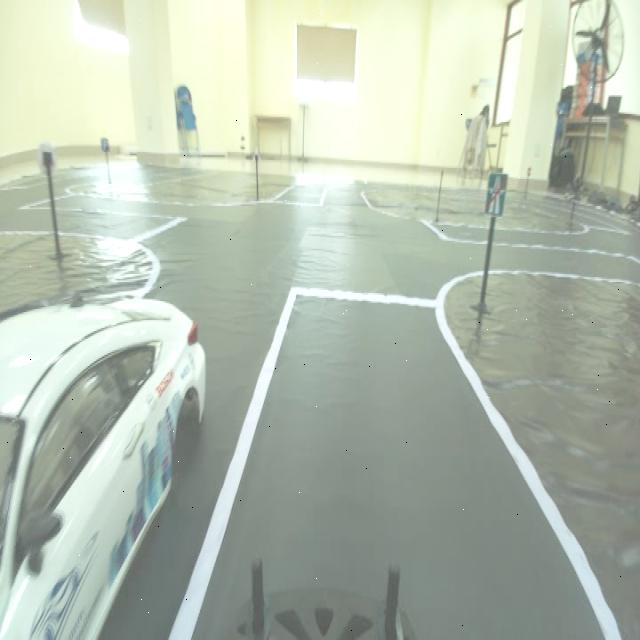car: (0, 257, 196, 634)
highway_exit: (479, 163, 509, 225)
